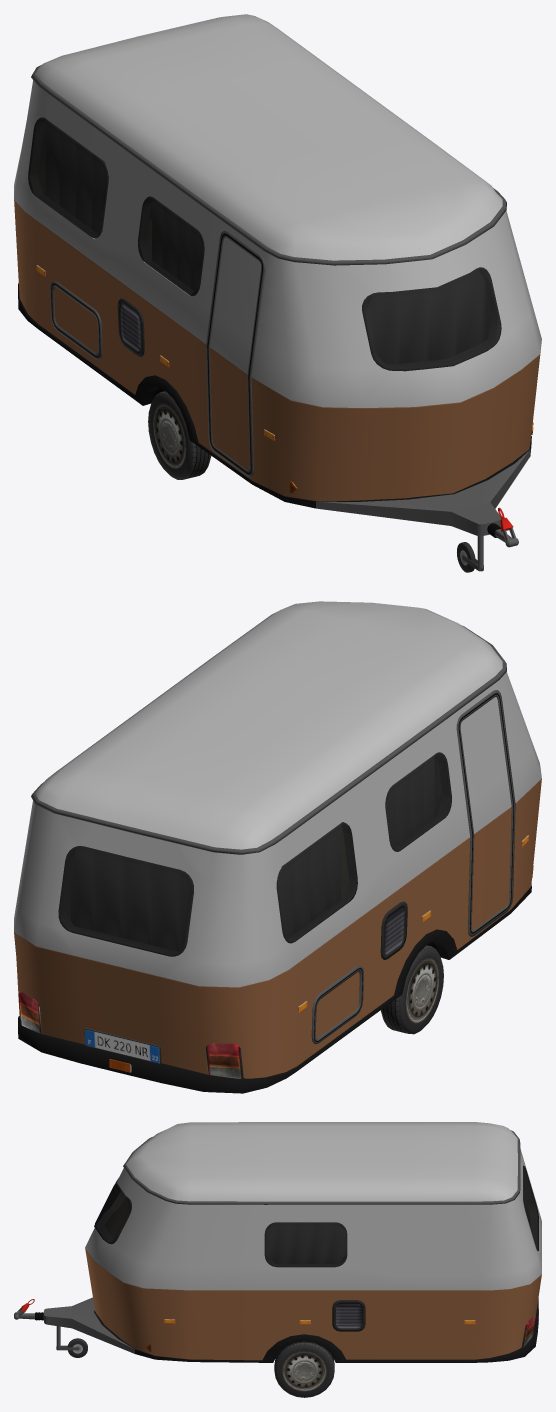
The model's file is caravane.obj.
The picture shows the model from 3 angles, top to bottom: view 1: azimuth 30°, elevation 25°; view 2: azimuth 150°, elevation 25°; view 3: azimuth 270°, elevation 25°; orthographic projection. The views are drawn at different scales.
Parts seen in each view (by area): view 1: Caravan_Cube.001, FrontWindow_Plane.006, Fender_Cube.002, SideWindow_Plane.001, LittleWindows_Plane, wheels_Cylinder, Door_Plane.002, Vent_Plane.004, LittleDoor_Plane.003; view 2: Caravan_Cube.001, BackWindow_Plane.005, Fender_Cube.002, SideWindow_Plane.001, LittleWindows_Plane, wheels_Cylinder, Door_Plane.002, RearLights_Cube.006, LicensePlates_mesh.010, Vent_Plane.004, LittleDoor_Plane.003; view 3: Caravan_Cube.001, Fender_Cube.002, LittleWindows_Plane, wheels_Cylinder, FrontWindow_Plane.006, Vent_Plane.004, BackWindow_Plane.005.
Boxes of the visible parts, x1=… form: Caravan_Cube.001: x1=14, y1=14, x2=541, y2=501; FrontWindow_Plane.006: x1=362, y1=267, x2=501, y2=371; Fender_Cube.002: x1=18, y1=283, x2=531, y2=571; SideWindow_Plane.001: x1=28, y1=117, x2=108, y2=238; LittleWindows_Plane: x1=138, y1=196, x2=204, y2=296; wheels_Cylinder: x1=148, y1=391, x2=211, y2=479; Door_Plane.002: x1=206, y1=230, x2=265, y2=477; Vent_Plane.004: x1=117, y1=298, x2=144, y2=356; LittleDoor_Plane.003: x1=50, y1=281, x2=102, y2=359; Caravan_Cube.001: x1=14, y1=601, x2=541, y2=1078; BackWindow_Plane.005: x1=58, y1=846, x2=193, y2=956; Fender_Cube.002: x1=18, y1=884, x2=531, y2=1093; SideWindow_Plane.001: x1=276, y1=822, x2=357, y2=943; LittleWindows_Plane: x1=385, y1=752, x2=451, y2=851; wheels_Cylinder: x1=380, y1=945, x2=443, y2=1034; Door_Plane.002: x1=456, y1=690, x2=515, y2=936; RearLights_Cube.006: x1=18, y1=992, x2=243, y2=1079; LicensePlates_mesh.010: x1=84, y1=1028, x2=161, y2=1064; Vent_Plane.004: x1=380, y1=901, x2=407, y2=959; LittleDoor_Plane.003: x1=311, y1=965, x2=363, y2=1044; Caravan_Cube.001: x1=85, y1=1122, x2=541, y2=1360; Fender_Cube.002: x1=43, y1=1297, x2=538, y2=1362; LittleWindows_Plane: x1=264, y1=1222, x2=347, y2=1267; wheels_Cylinder: x1=274, y1=1341, x2=334, y2=1397; FrontWindow_Plane.006: x1=94, y1=1178, x2=131, y2=1244; Vent_Plane.004: x1=332, y1=1300, x2=365, y2=1331; BackWindow_Plane.005: x1=523, y1=1165, x2=538, y2=1250.
Bounding box in the file's own units: 212 × 236 × 547.
26 materials, 8 textured.
